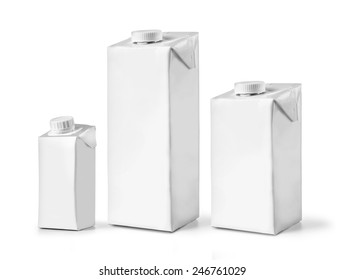carton: (104, 23, 202, 233), (207, 72, 308, 240), (31, 104, 100, 236)
